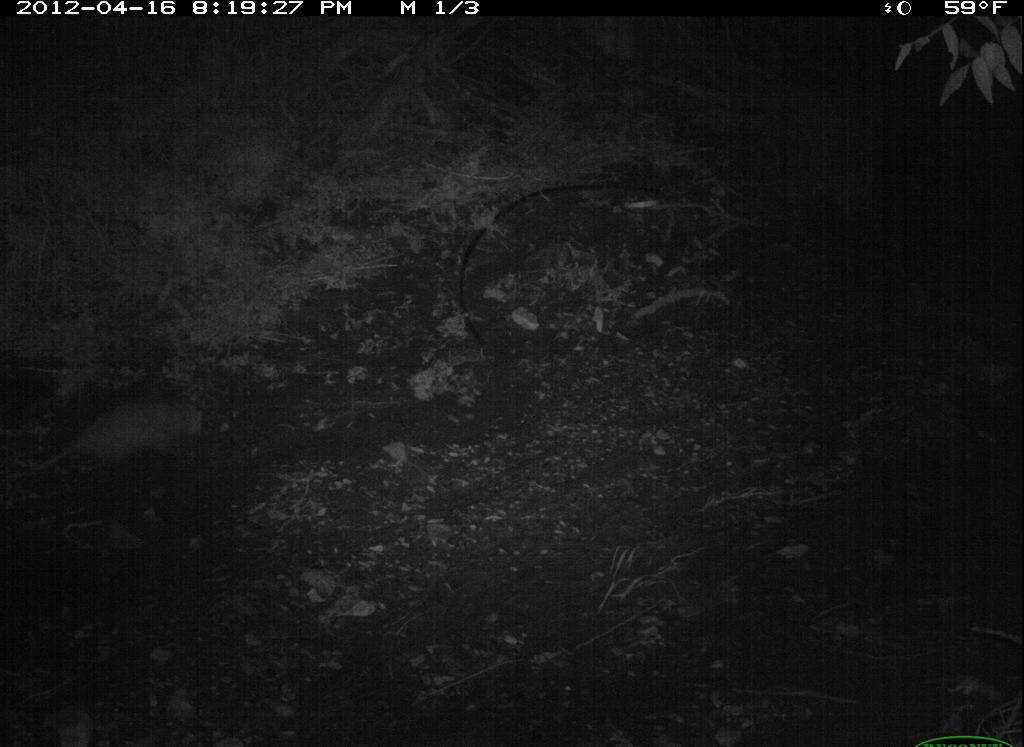opossum: (1, 377, 214, 489)
